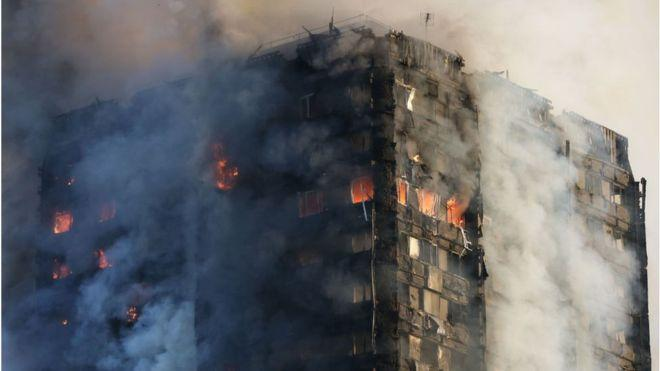smoke: (109, 115, 264, 323), (499, 122, 592, 361), (65, 17, 238, 76)
